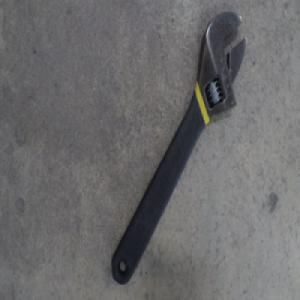AdjustableWrench: (111, 12, 247, 283)
